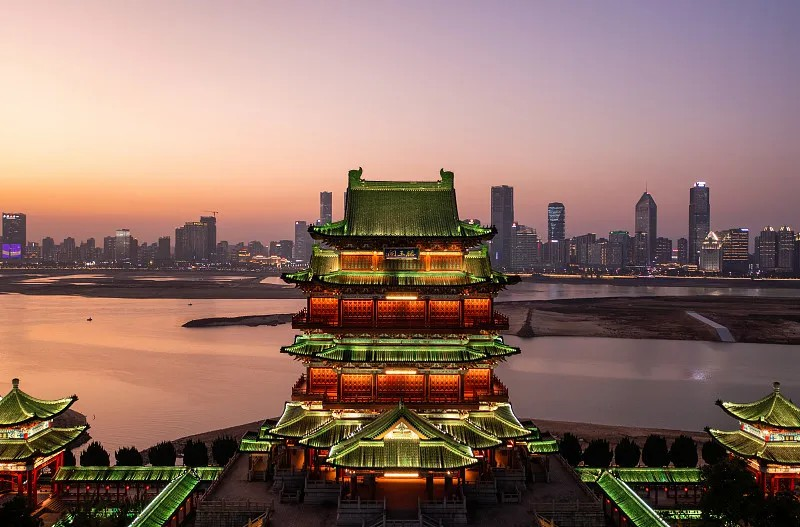Teng: (239, 165, 559, 498)
